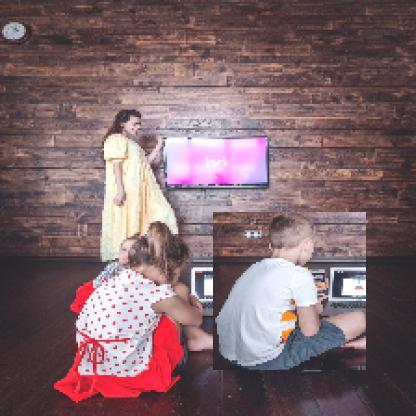child: (53, 223, 193, 405), (215, 213, 369, 372)
